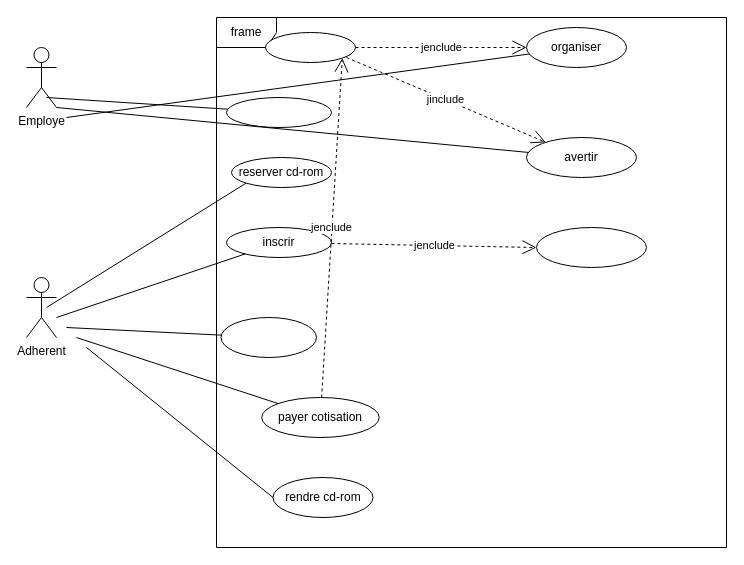
This 744x565 diagram has some shape labels left out. Here are the shapes that lost their labels. From the top down, the centre of each, then its label:
(x=310, y=47): authentifier
(x=279, y=112): enregistrer
(x=591, y=247): verifier
(x=268, y=337): emprunter cd-rom
